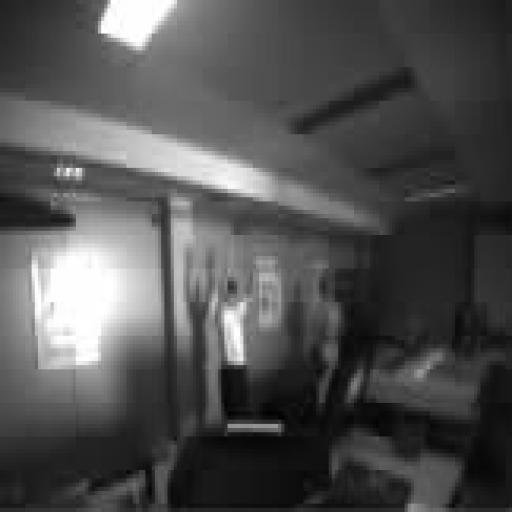human: (215, 277, 252, 419), (310, 269, 344, 411)
